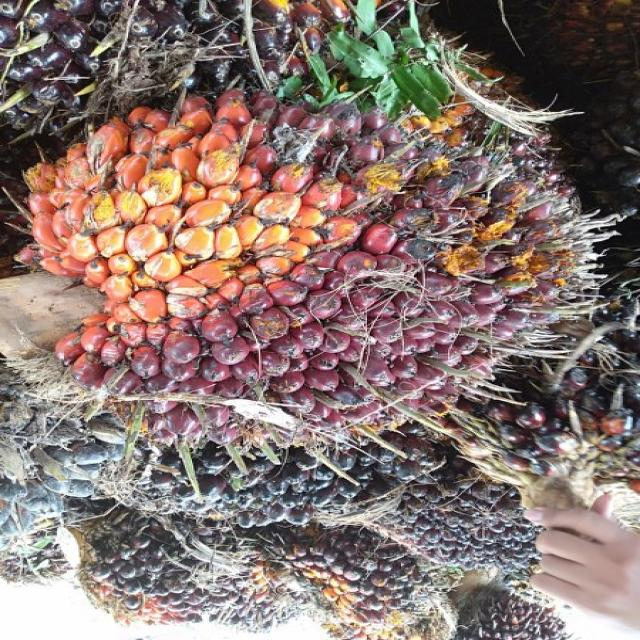fraksi 3: (0, 37, 605, 442)
